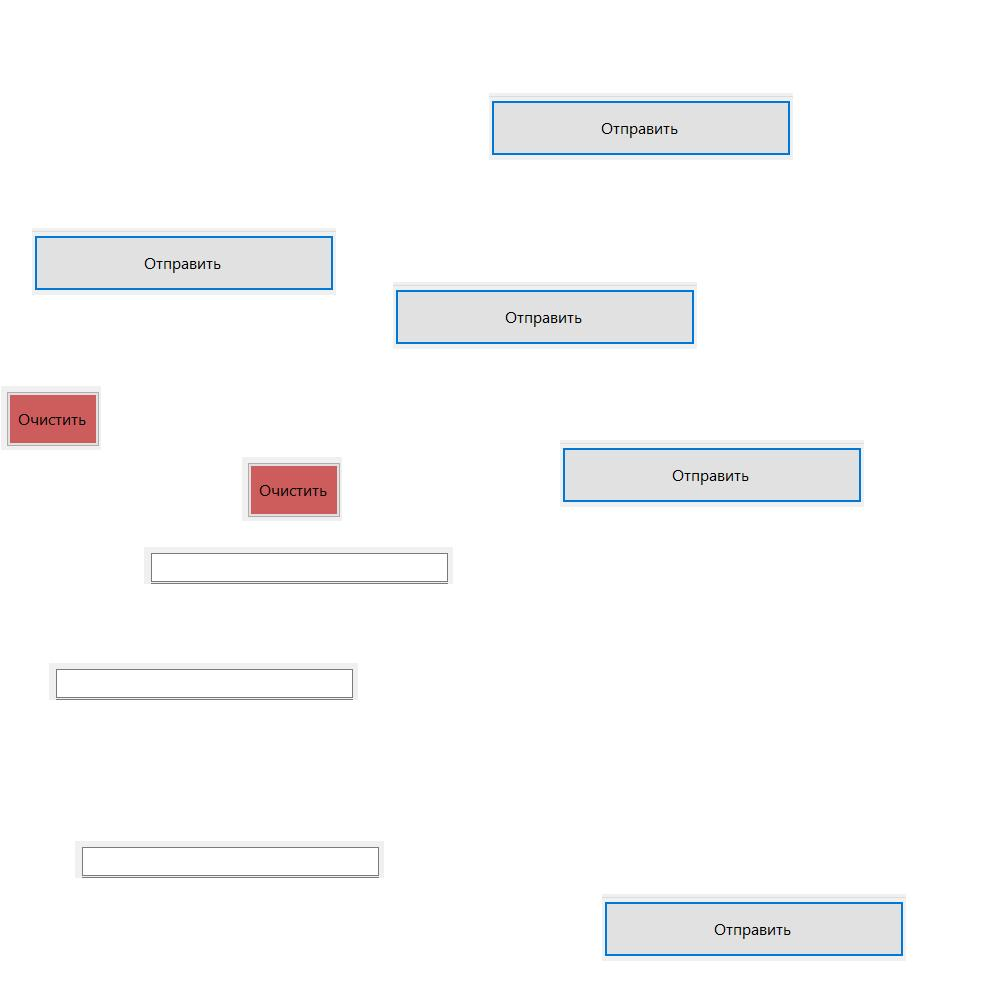Button: (393, 282, 697, 349), (560, 440, 864, 507), (602, 894, 906, 961), (489, 93, 793, 160), (32, 228, 336, 295), (242, 457, 342, 521), (1, 386, 101, 450)
EditText-: (75, 841, 384, 878), (49, 663, 358, 700), (144, 547, 453, 584)
